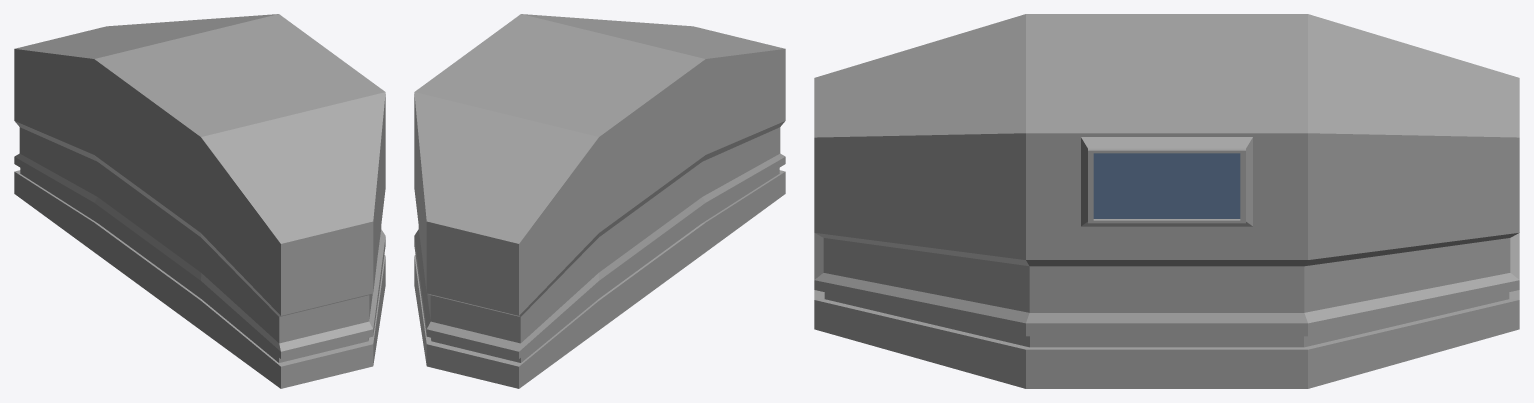
The model's file is Battery_03.fbx.
3 views of the same model, side by side, from view 1: azimuth 30°, elevation 25°; view 2: azimuth 150°, elevation 25°; view 3: azimuth 270°, elevation 25° (orthographic). The views are drawn at different scales.
Parts seen in each view (by area): view 1: Cube.001; view 2: Cube.001; view 3: Cube.001.
Part boxes in pixels (left/top/right/bottom): Cube.001: left=14, top=14, right=385, bottom=388; Cube.001: left=414, top=14, right=785, bottom=388; Cube.001: left=814, top=14, right=1519, bottom=388.
Bounding box in the file's own units: 209 × 200 × 500.
